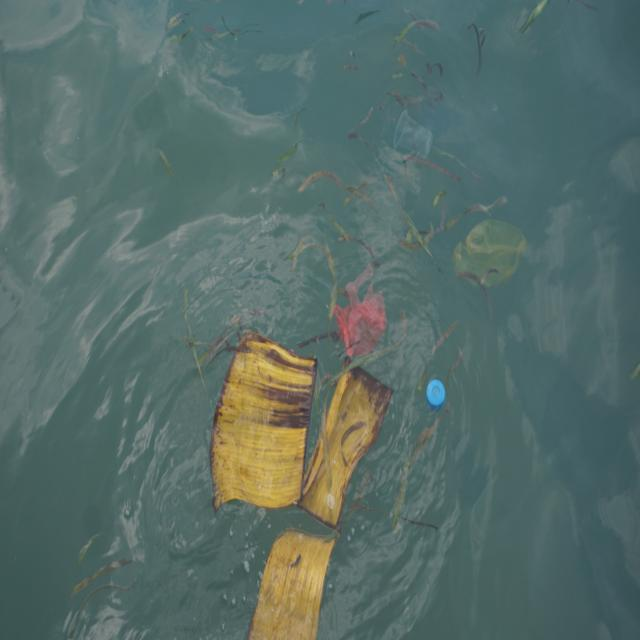Bungkus Minuman: (393, 106, 436, 166)
Kantong Plastik: (452, 208, 530, 295), (334, 262, 391, 366)
